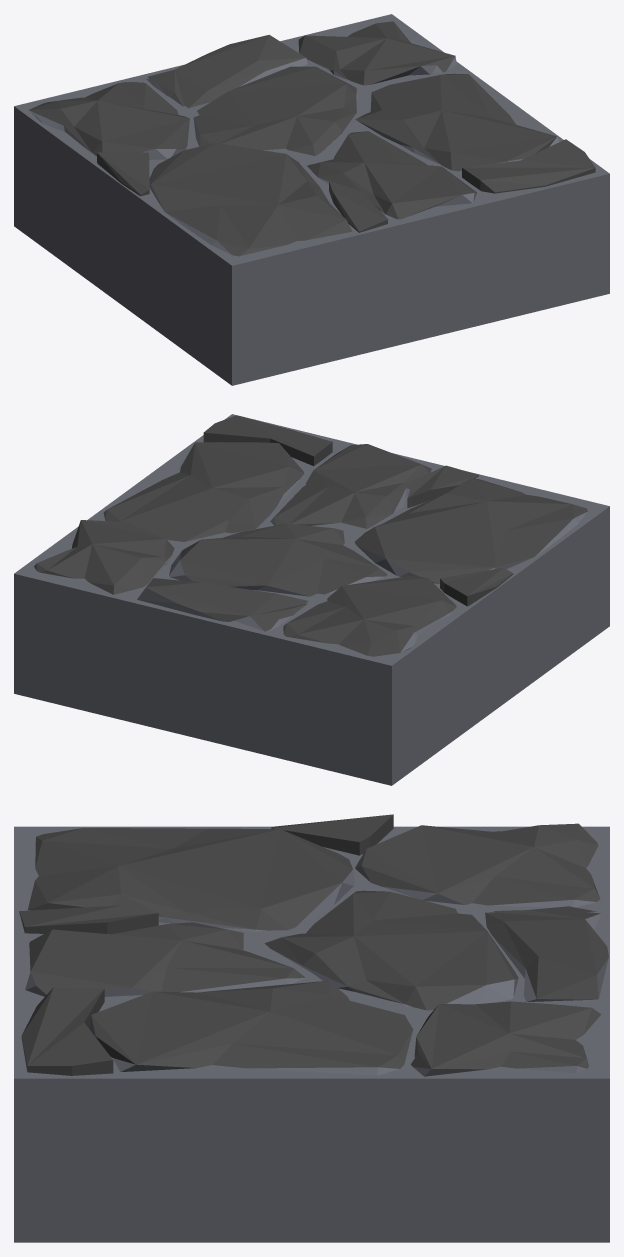
Rendered from Ground_Tiles_Large_08.FBX.
The picture shows the model from 3 angles, top to bottom: view 1: azimuth 30°, elevation 25°; view 2: azimuth 150°, elevation 25°; view 3: azimuth 270°, elevation 25°; orthographic projection. The views are drawn at different scales.
Visible parts, largest first — view 1: Ground_Tiles_Large_08; view 2: Ground_Tiles_Large_08; view 3: Ground_Tiles_Large_08.
Boxes of the visible parts, x1,y1,x2,y2 form: Ground_Tiles_Large_08: (14,14,609,385); Ground_Tiles_Large_08: (14,414,609,785); Ground_Tiles_Large_08: (14,814,609,1242).
Bounding box in the file's own units: 100 × 33.85 × 100.
